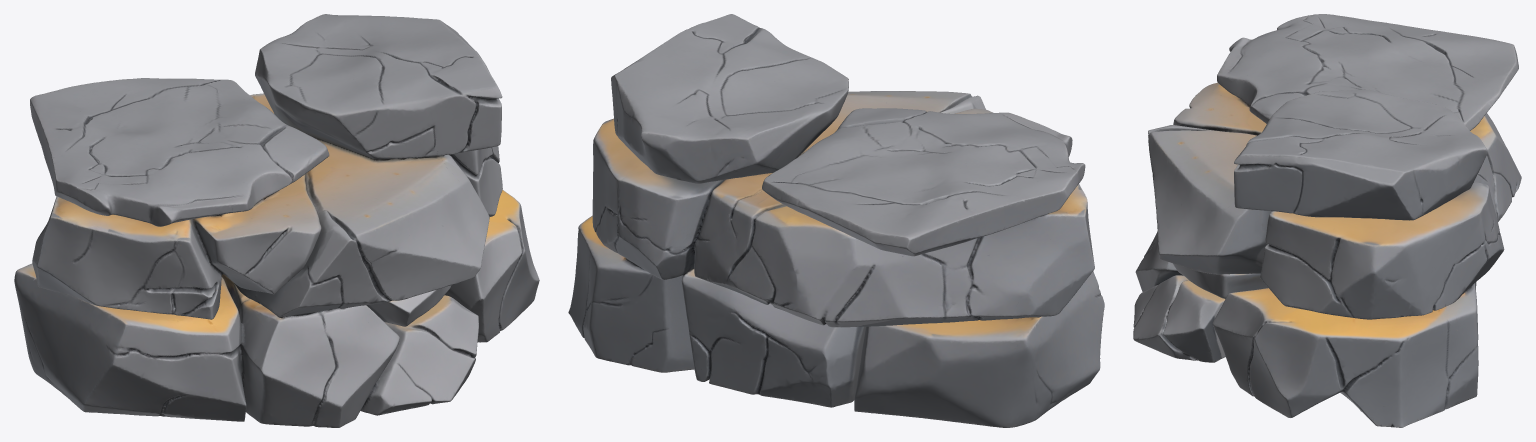
The model's file is tatu_lajeado.glb.
3 views of the same model, side by side, from view 1: azimuth 30°, elevation 25°; view 2: azimuth 150°, elevation 25°; view 3: azimuth 270°, elevation 25° (orthographic). The views are drawn at different scales.
Bounding box in the file's own units: 1.9 × 0.959 × 1.39.
1 material, 1 textured.
